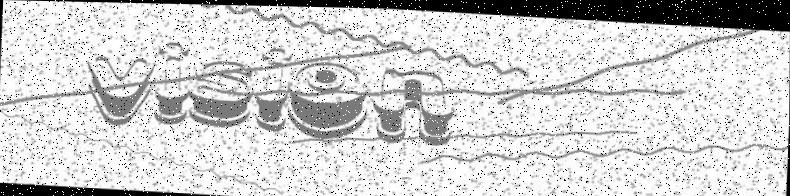i: (154, 40, 192, 124), (256, 45, 290, 129)
n: (373, 66, 457, 144)
o: (288, 60, 369, 138)
s: (189, 58, 253, 127)
v: (84, 55, 155, 125)
